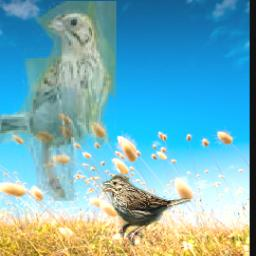Sparrow: (0, 1, 116, 204), (102, 173, 189, 246)
